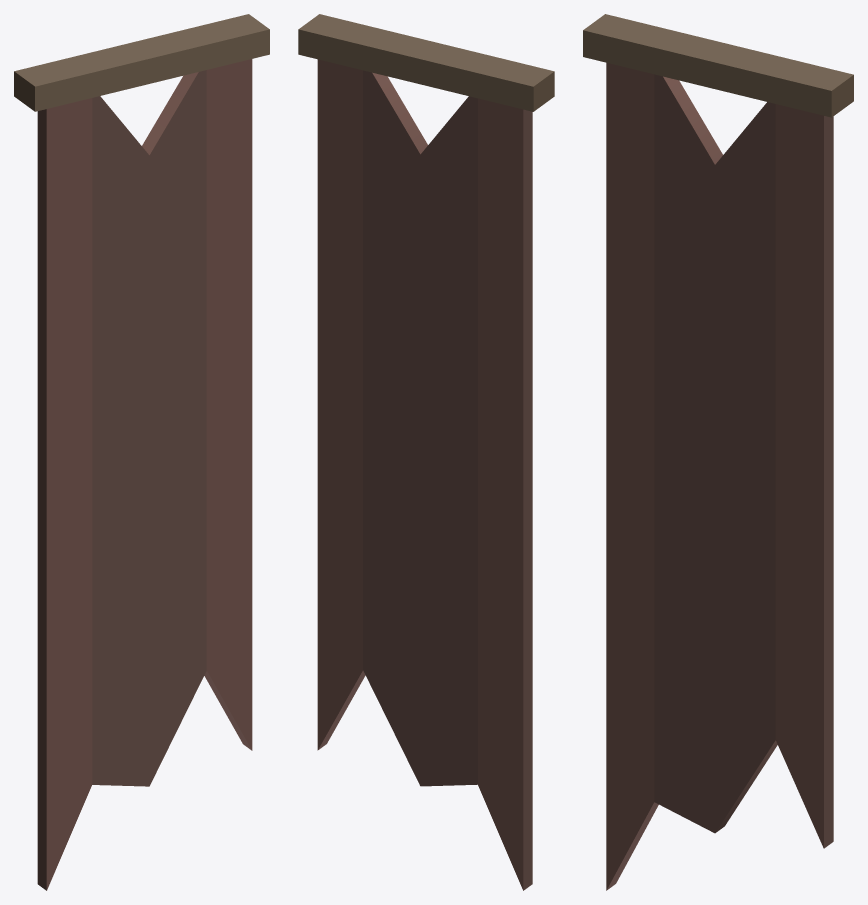
The model's file is SD_Prop_Banner_01.fbx.
3 renders of one model, left to right at view 1: azimuth 30°, elevation 25°; view 2: azimuth 150°, elevation 25°; view 3: azimuth 330°, elevation 25°, orthographic. The views are drawn at different scales.
Parts seen in each view (by area): view 1: SD_Prop_Banner_01; view 2: SD_Prop_Banner_01; view 3: SD_Prop_Banner_01.
Boxes of the visible parts, x1=… form: SD_Prop_Banner_01: x1=14, y1=14, x2=269, y2=890; SD_Prop_Banner_01: x1=298, y1=14, x2=554, y2=890; SD_Prop_Banner_01: x1=583, y1=14, x2=853, y2=890.
Bounding box in the file's own units: 0.8836 × 2.92 × 0.1371.
